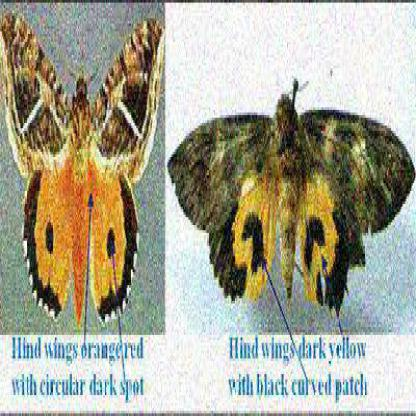fruit sucking moth: (170, 90, 415, 317), (2, 15, 167, 328)
